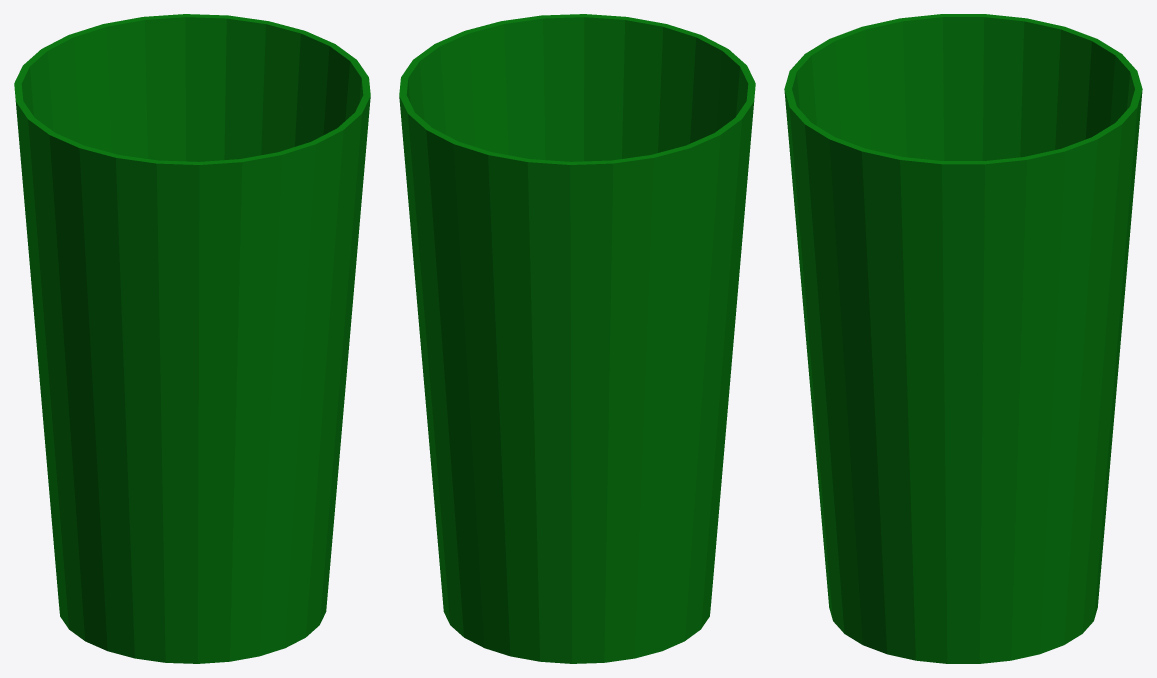
The model's file is balise_green.dae.
3 views of the same model, side by side, from view 1: azimuth 30°, elevation 25°; view 2: azimuth 150°, elevation 25°; view 3: azimuth 270°, elevation 25° (orthographic).
Visible parts, largest first — view 1: node; view 2: node; view 3: node.
Part boxes in pixels (left/top/right/bottom): node: left=14, top=14, right=370, bottom=663; node: left=399, top=14, right=755, bottom=663; node: left=784, top=14, right=1142, bottom=663.
Size of the model in its own units: 0.0715 by 0.072 by 0.115.
